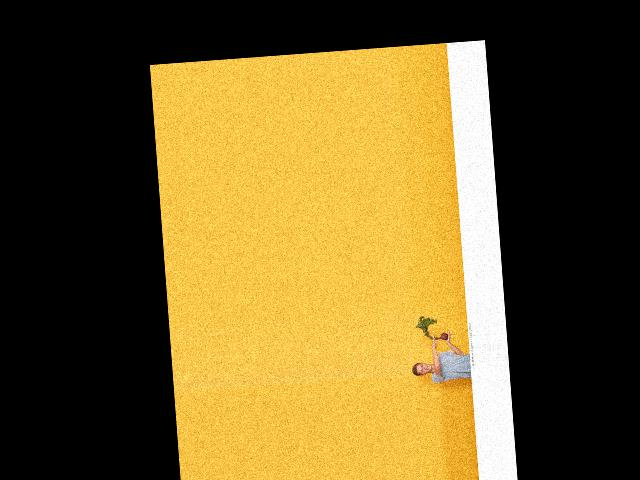beet: (415, 313, 455, 341)
